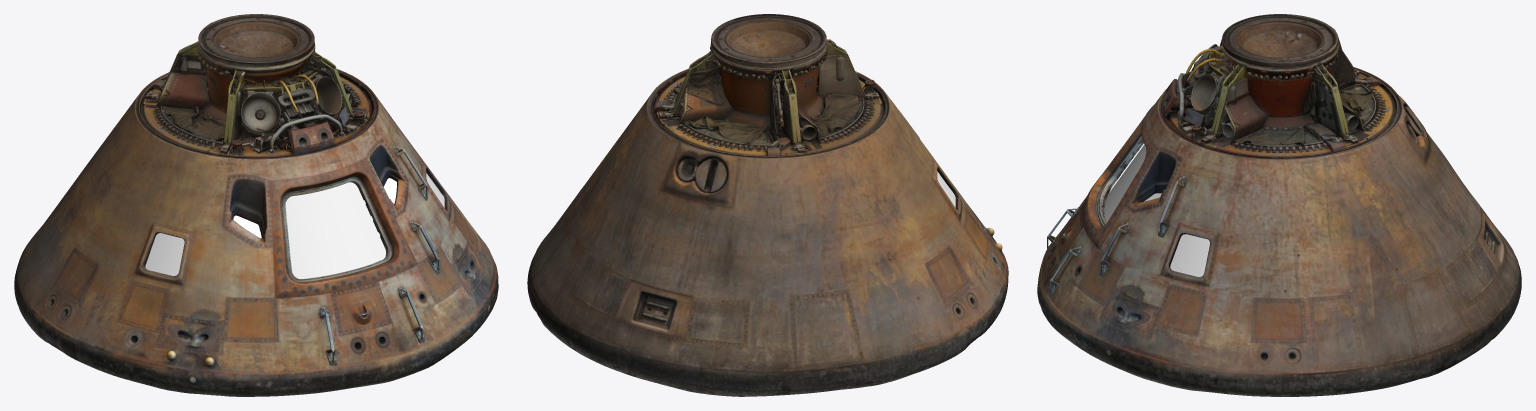
The picture shows the model from 3 angles, left to right: view 1: azimuth 30°, elevation 25°; view 2: azimuth 150°, elevation 25°; view 3: azimuth 270°, elevation 25°; orthographic projection.
Parts seen in each view (by area): view 1: model; view 2: model; view 3: model.
Part boxes in pixels (x1,y1,x2,y2): model: (14,14,498,396); model: (527,14,1008,396); model: (1037,14,1521,396).
Bounding box in the file's own units: 3.91 × 2.74 × 3.92.
3 materials, 2 textured.
